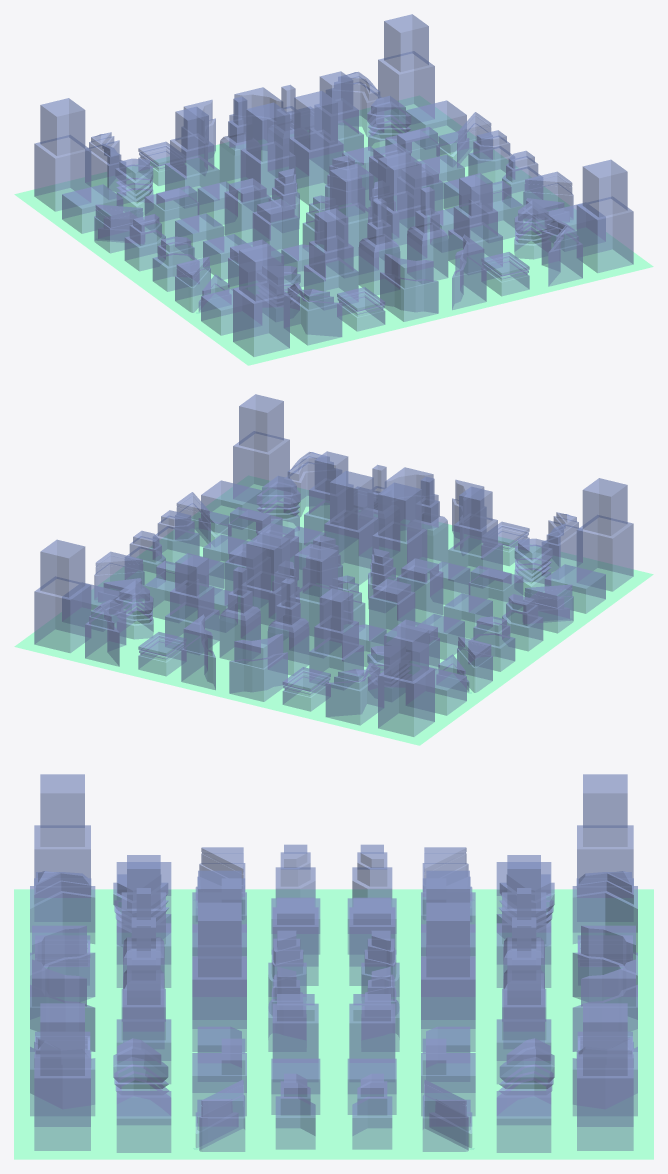
Rendered from CityScape.glb.
3 views of the same model, one above another, from view 1: azimuth 30°, elevation 25°; view 2: azimuth 150°, elevation 25°; view 3: azimuth 270°, elevation 25° (orthographic). The views are drawn at different scales.
Parts seen in each view (by area): view 1: Plane.001; view 2: Plane.001; view 3: Plane.001.
Part boxes in pixels (x1,y1,x2,y2): Plane.001: (14,14,653,365); Plane.001: (14,394,653,745); Plane.001: (14,774,653,1159).
Bounding box in the file's own units: 10.54 × 2.34 × 10.54.
